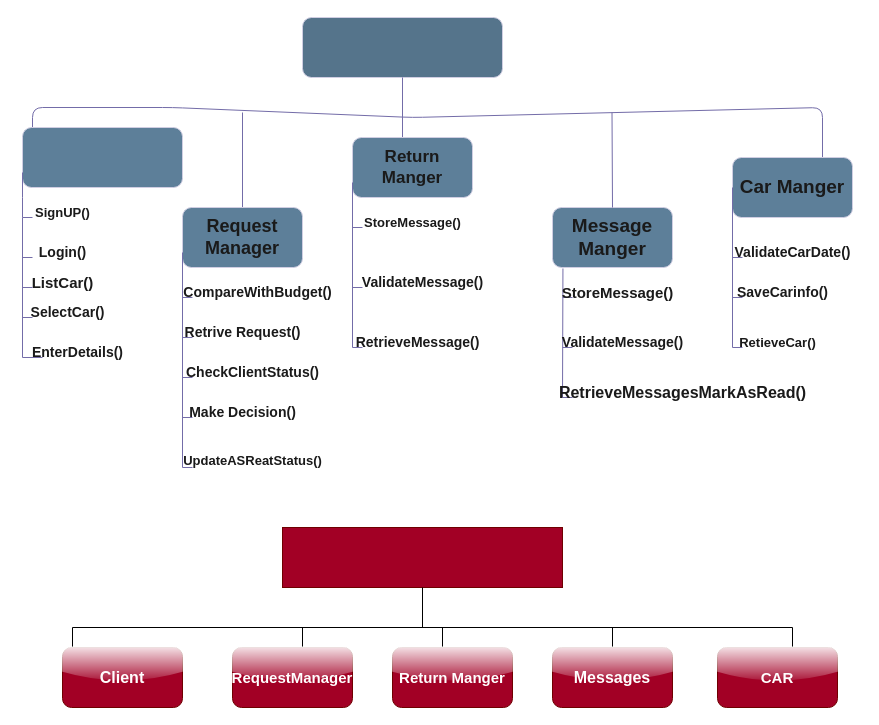
This 879x725 diagram has some shape labels left out. The box of each missing label's shape, as (x1, y1, x2, y2) in pixels:
Car Rental System: (302, 16, 502, 78)
Client Interface: (22, 126, 182, 188)
DATA STORE: (282, 526, 562, 588)
